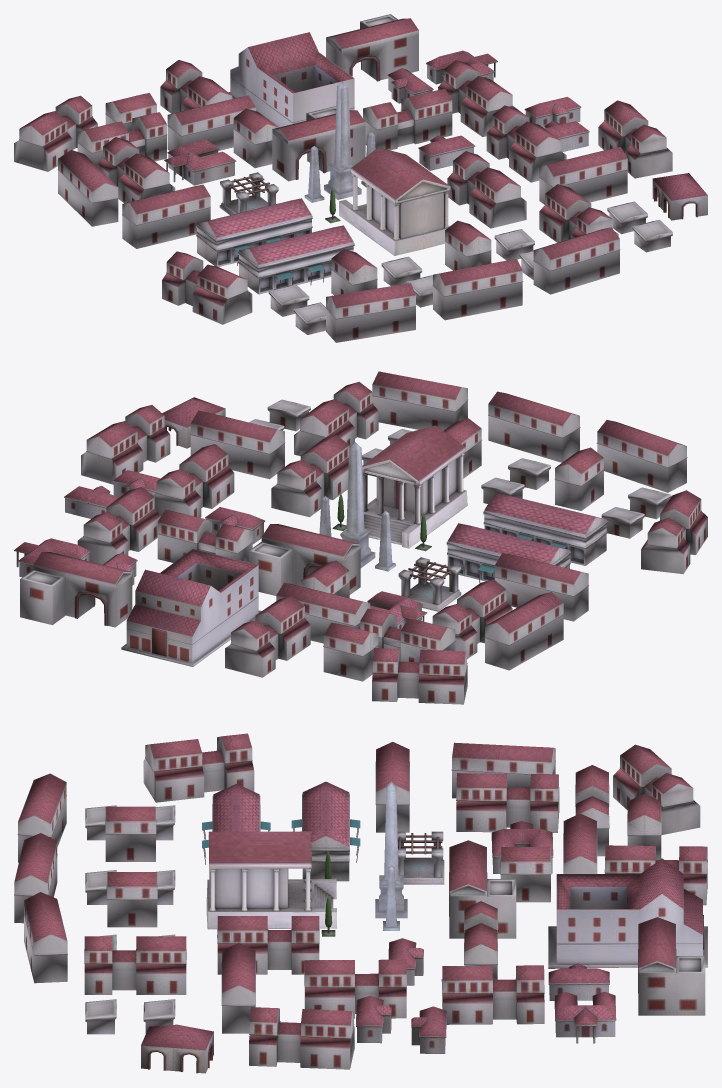
Rendered from city_roman_3.glb.
3 views of the same model, one above another, from view 1: azimuth 30°, elevation 25°; view 2: azimuth 150°, elevation 25°; view 3: azimuth 270°, elevation 25° (orthographic). The views are drawn at different scales.
Parts seen in each view (by area): view 1: low.064, low..061, low..062, low..064, low..060, low.107, low.077, low.069, low.070, low.072, low.066, low.061 (+26 smaller); view 2: low..061, low.064, low.107, low..064, low..062, low.061, low.080, low.070, low.084, low.069, low.073, low.072 (+25 smaller); view 3: low..061, low.064, low.077, low.073, low.074, low.076, low.065, low.107, low..062, low.092, low.096, low.080 (+26 smaller).
Part boxes in pixels (x1,y1,x2,y2): low.064: (339, 147, 450, 255); low..061: (228, 32, 354, 127); low..062: (268, 201, 672, 334); low..064: (238, 225, 354, 294); low..060: (196, 198, 312, 266); low.107: (326, 14, 418, 81); low.077: (162, 251, 252, 324); low.069: (325, 283, 415, 342); low.070: (432, 258, 523, 320); low.072: (533, 227, 620, 294); low.066: (122, 184, 210, 248); low.061: (272, 106, 365, 181); low..061: (121, 549, 261, 666); low.064: (362, 425, 467, 548); low.107: (20, 552, 132, 627); low..064: (483, 492, 607, 565); low..062: (249, 399, 671, 538); low.061: (248, 524, 360, 595); low.080: (372, 648, 467, 704); low.070: (488, 391, 580, 462); low.084: (225, 596, 310, 677); low.069: (596, 420, 687, 492); low.073: (81, 405, 170, 484); low.072: (372, 371, 468, 430); low..061: (548, 858, 707, 968); low.064: (206, 831, 336, 929); low.077: (143, 733, 254, 802); low.073: (249, 1007, 354, 1069); low.074: (84, 936, 186, 994); low.076: (441, 965, 544, 1024); low.065: (456, 773, 559, 832); low.107: (638, 917, 705, 1015); low..062: (85, 805, 175, 1034); low.092: (304, 959, 406, 1018); low.096: (217, 916, 319, 974); low.080: (613, 744, 700, 834).
Size of the model in its own units: 25.48 by 5.58 by 25.09.
6 materials, 6 textured.
